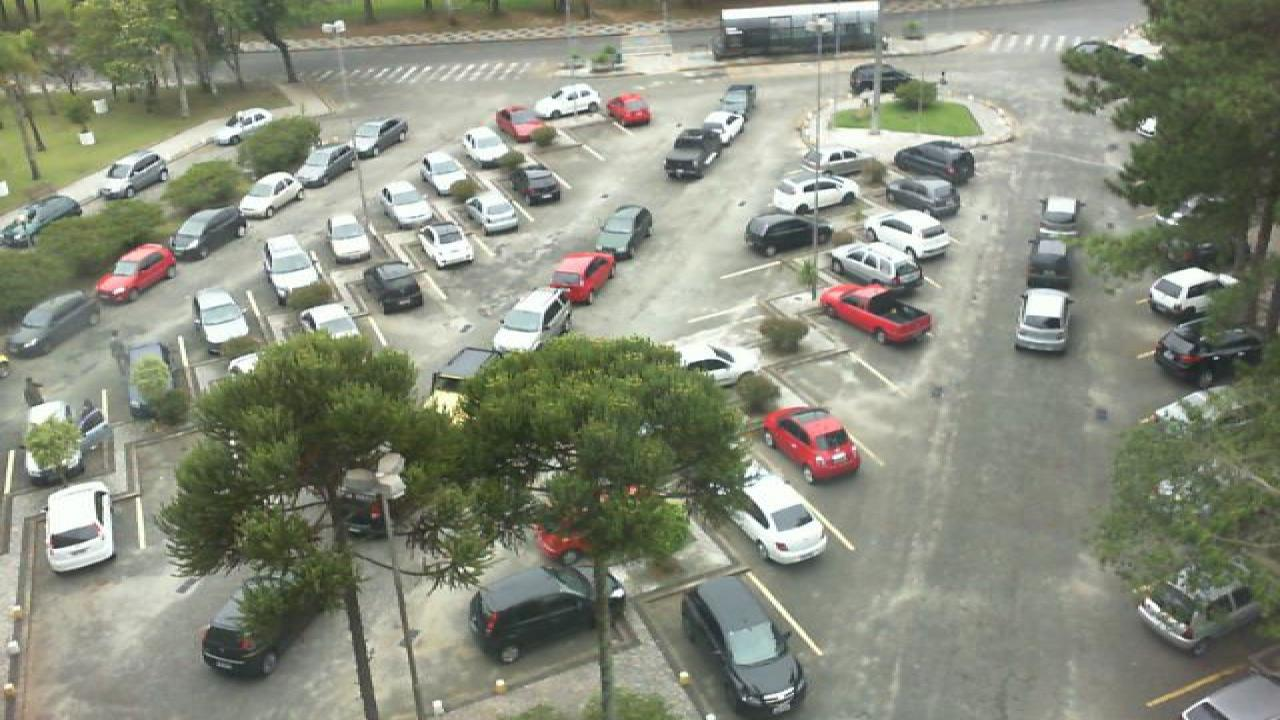Car: (680, 576, 808, 719), (468, 566, 624, 669), (1136, 571, 1268, 657), (200, 586, 314, 676), (734, 464, 832, 566), (1150, 318, 1266, 391), (762, 405, 860, 483), (816, 282, 934, 346), (16, 398, 100, 485), (42, 480, 118, 574), (6, 290, 106, 359), (1146, 264, 1240, 323), (94, 242, 178, 304), (492, 288, 572, 353), (332, 469, 406, 538), (824, 241, 926, 291), (428, 346, 502, 413), (864, 208, 956, 259), (192, 287, 254, 360), (742, 210, 836, 258), (168, 207, 250, 261), (118, 340, 172, 420), (2, 194, 82, 248), (1178, 678, 1280, 720), (672, 344, 762, 390), (544, 252, 616, 308), (894, 140, 978, 186), (1014, 288, 1072, 354), (772, 171, 860, 211), (884, 176, 960, 222), (662, 127, 726, 181), (236, 172, 308, 218), (262, 237, 322, 292), (362, 261, 424, 313), (100, 152, 170, 198), (596, 204, 654, 259), (292, 144, 360, 190), (418, 218, 478, 268), (788, 147, 870, 181), (350, 116, 410, 160), (210, 107, 278, 145), (464, 190, 522, 234), (534, 84, 604, 120), (510, 160, 566, 204), (1026, 239, 1074, 290), (380, 184, 432, 229), (462, 125, 512, 169), (328, 216, 374, 263), (422, 152, 470, 196), (494, 106, 550, 143), (848, 64, 912, 96), (1038, 195, 1080, 238), (298, 316, 358, 346), (698, 110, 748, 146), (604, 93, 654, 127), (716, 83, 758, 118)
